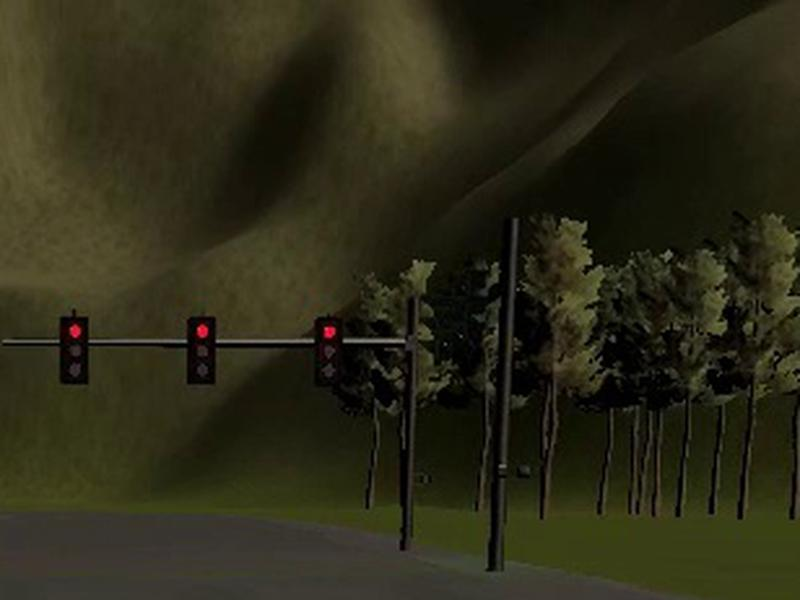Red: (59, 316, 88, 384), (188, 319, 217, 386), (316, 318, 340, 383)
